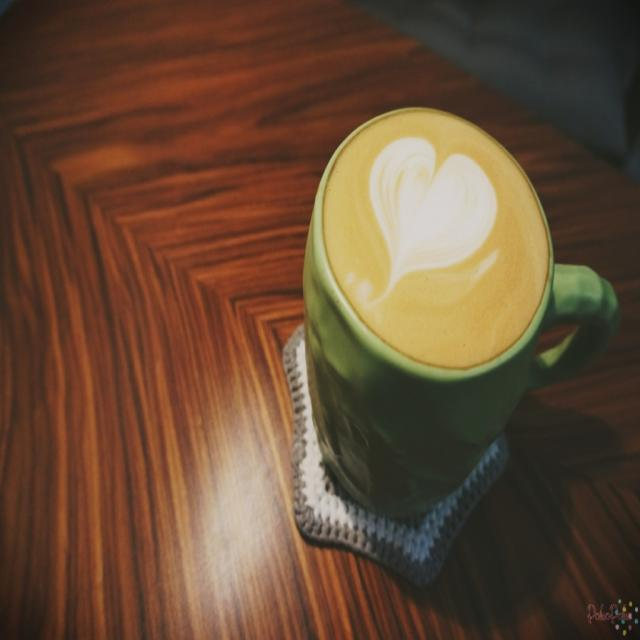latte: (308, 103, 557, 384)
